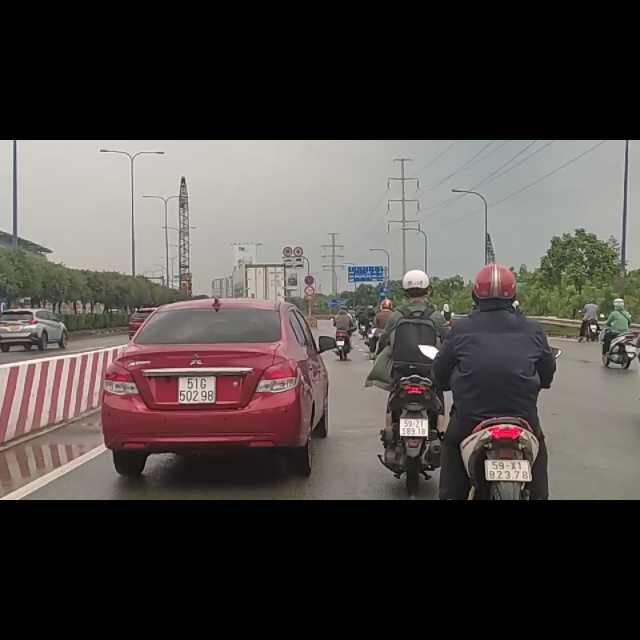bien_cam: (304, 240, 315, 259)
